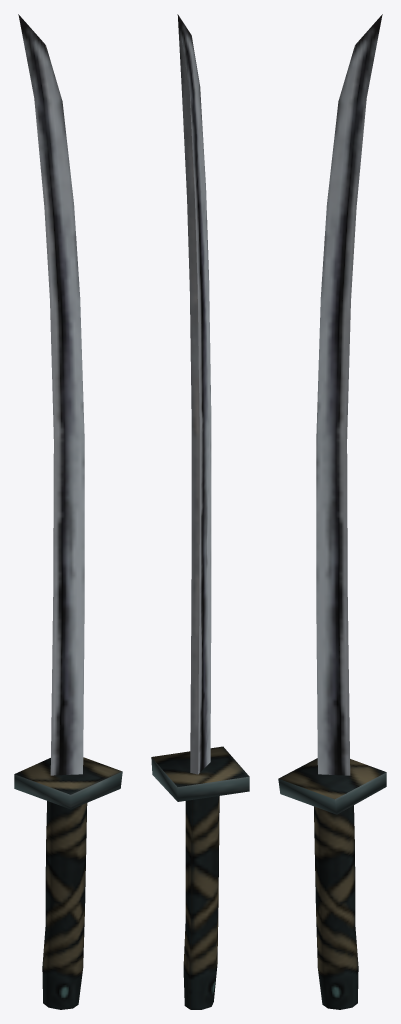
File: WP_Futakuchi_Normal.FBX
The picture shows the model from 3 angles, left to right: view 1: azimuth 90°, elevation 25°; view 2: azimuth 150°, elevation 25°; view 3: azimuth 270°, elevation 25°; orthographic projection.
Visible parts, largest first — view 1: WP_Futakuchi_Normal; view 2: WP_Futakuchi_Normal; view 3: WP_Futakuchi_Normal.
Boxes of the visible parts, x1,y1,x2,y2 form: WP_Futakuchi_Normal: (14, 14, 122, 1009); WP_Futakuchi_Normal: (151, 14, 249, 1009); WP_Futakuchi_Normal: (278, 14, 386, 1009).
Size of the model in its own units: 15.75 by 158 by 15.69.
